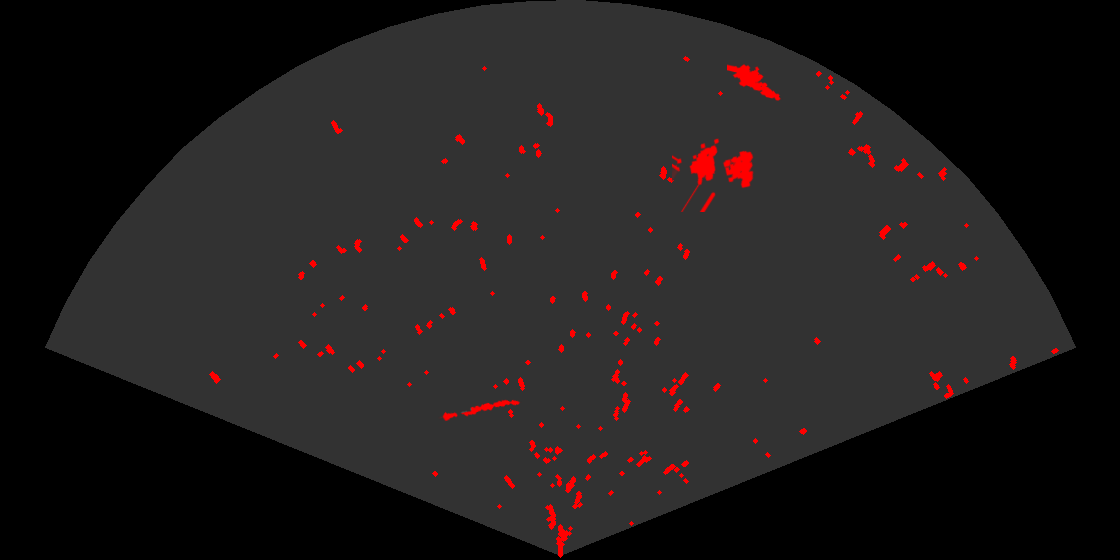cage: (672, 137, 755, 212)
chain: (438, 398, 522, 423)
frogman: (727, 62, 783, 102)
